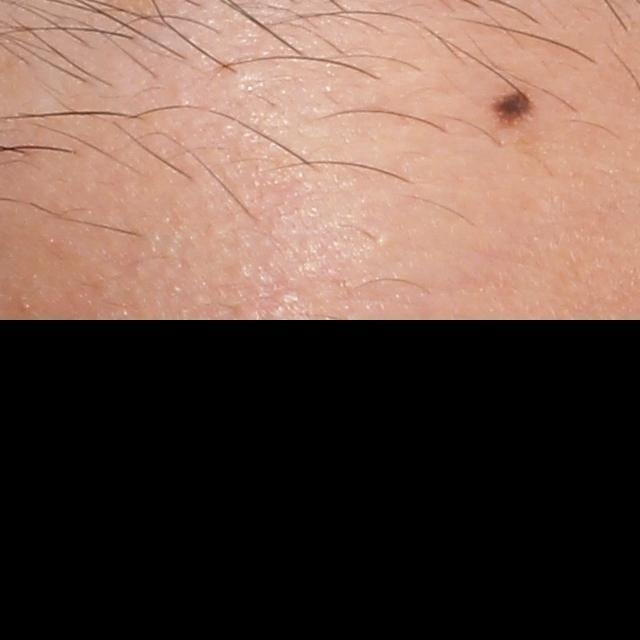nevus: (488, 86, 538, 133)
